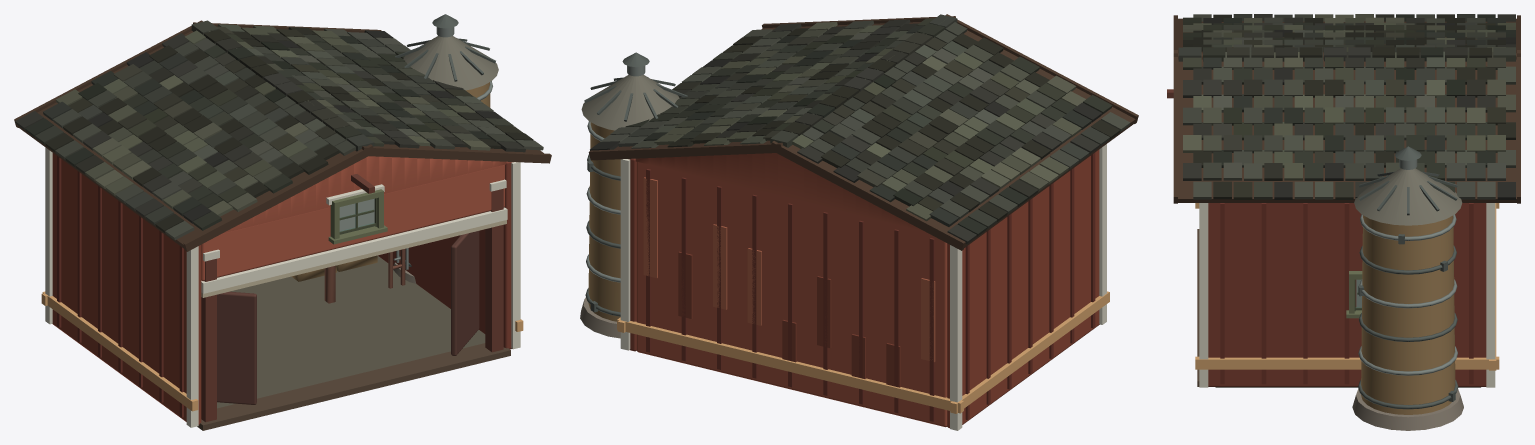
The model's file is barn.fixed.m1.glb.
3 views of the same model, side by side, from view 1: azimuth 30°, elevation 25°; view 2: azimuth 150°, elevation 25°; view 3: azimuth 270°, elevation 25° (orthographic). The views are drawn at different scales.
Parts seen in each view (by area): view 1: barnRoof, barnTrim, barnInteriorFloor, barnLeftWall, barnUpperFront, barnbatch1, barnFrontGable, barnRightWall, siloHardware, barnbatch0, barnHayLoft, windowPane (+1 smaller); view 2: barnRoof, barnRearWall, barnTrim, barnLeftWall, barnRearGable, siloHardware, siloStaves, barnRightWall; view 3: barnRoof, barnRightWall, siloStaves, barnTrim, siloHardware, barnbatch0.
Part boxes in pixels (x1,y1,x2,y2): barnRoof: [14, 20, 551, 251]; barnTrim: [41, 147, 523, 430]; barnInteriorFloor: [217, 256, 485, 408]; barnLeftWall: [52, 153, 201, 425]; barnUpperFront: [201, 164, 504, 281]; barnbatch1: [217, 231, 479, 404]; barnFrontGable: [222, 156, 505, 233]; barnRightWall: [378, 161, 513, 349]; siloHardware: [393, 14, 498, 283]; barnbatch0: [328, 189, 387, 244]; barnHayLoft: [324, 249, 405, 303]; windowPane: [339, 198, 374, 231]; barnRoof: [588, 14, 1138, 250]; barnRearWall: [636, 162, 947, 427]; barnTrim: [617, 144, 1109, 430]; barnLeftWall: [947, 150, 1099, 428]; barnRearGable: [635, 153, 925, 231]; siloHardware: [580, 52, 687, 338]; siloStaves: [588, 122, 620, 321]; barnRightWall: [628, 158, 636, 351]; barnRoof: [1173, 14, 1520, 203]; barnRightWall: [1208, 203, 1486, 386]; siloStaves: [1361, 215, 1455, 414]; barnTrim: [1167, 89, 1499, 387]; siloHardware: [1352, 146, 1463, 430]; barnbatch0: [1346, 271, 1362, 318].
Size of the model in its own units: 11.04 by 6.39 by 7.85.
